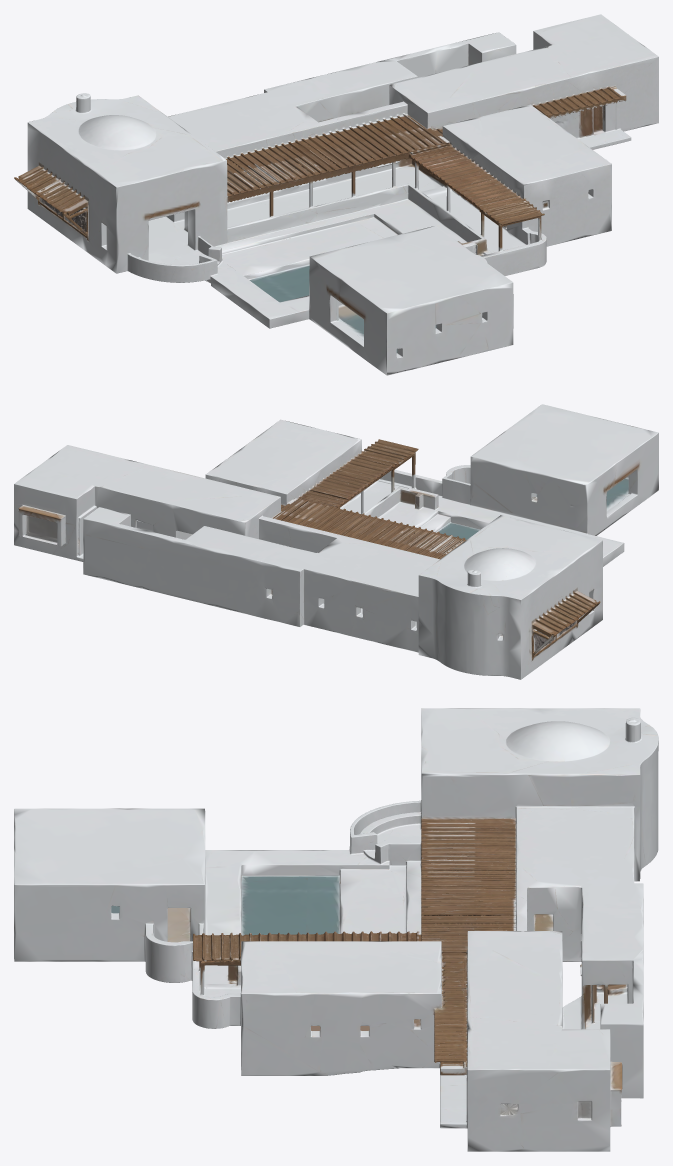
File: villa-S-opt.glb
The picture shows the model from 3 angles, top to bottom: view 1: azimuth 30°, elevation 25°; view 2: azimuth 150°, elevation 25°; view 3: azimuth 270°, elevation 25°; orthographic projection. The views are drawn at different scales.
Bounding box in the file's own units: 1.9 × 0.3484 × 1.47.
1 material, 1 textured.
